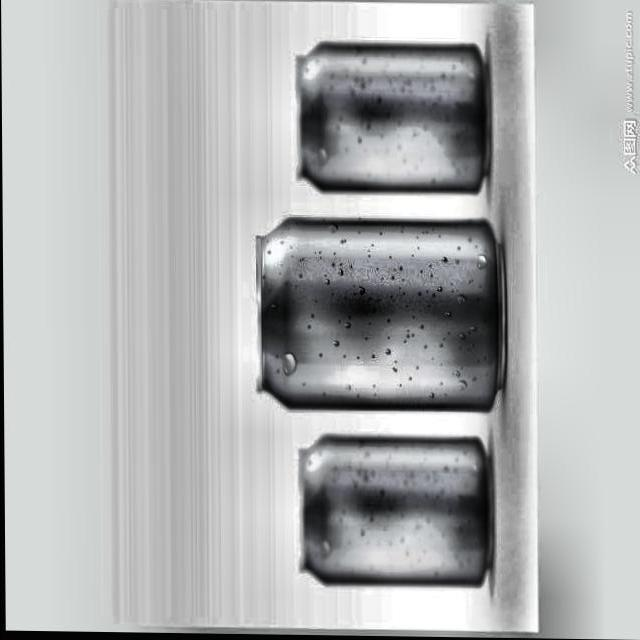Aluminum Can: (243, 212, 508, 422), (284, 426, 500, 596), (287, 34, 490, 200)
